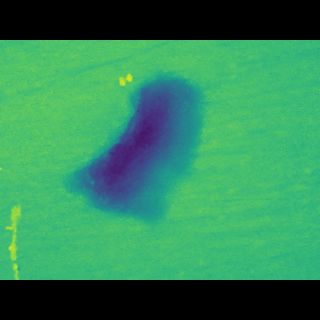Loch: (56, 93, 204, 208), (3, 191, 33, 250)
